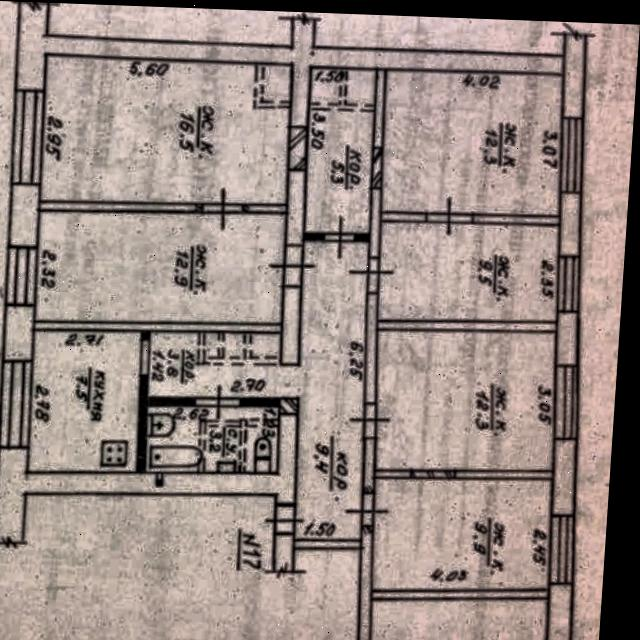room: (143, 236, 367, 543), (40, 54, 291, 212), (33, 210, 285, 326), (369, 331, 558, 474), (380, 72, 563, 216), (369, 480, 551, 591), (376, 223, 558, 323), (25, 326, 139, 476), (304, 67, 376, 235), (144, 406, 277, 474)
